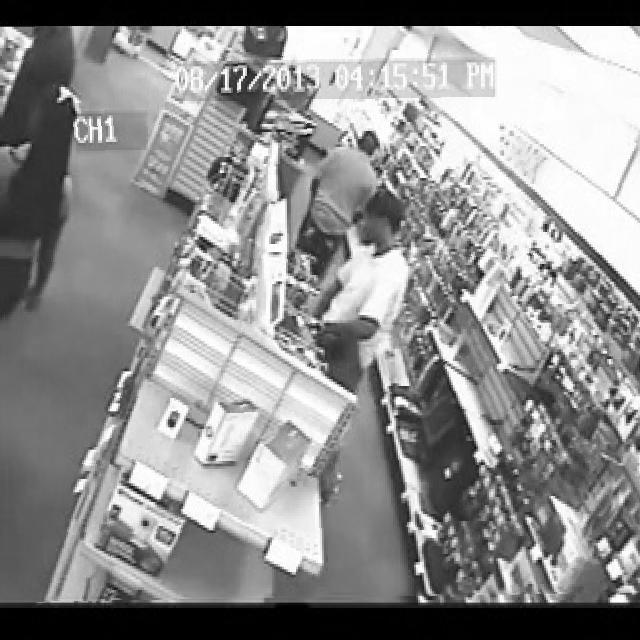normal: (1, 26, 640, 602)
